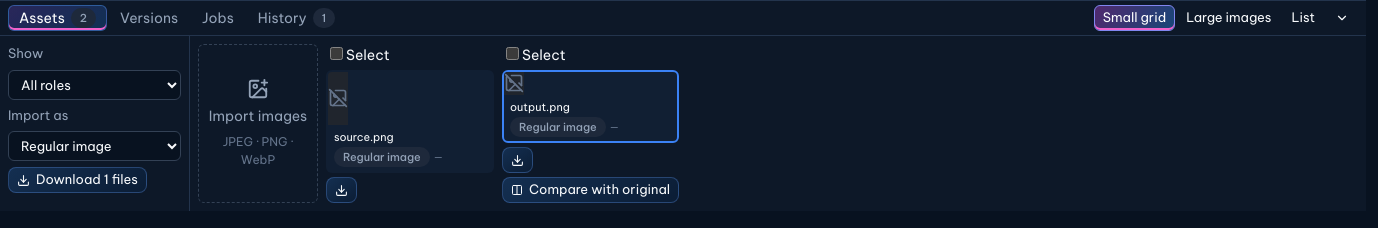
asset tray view preference › keeps batch selection and enhance comparison available in list rows
Click the button "List" at (1303, 18), box [1282,5,1324,31]
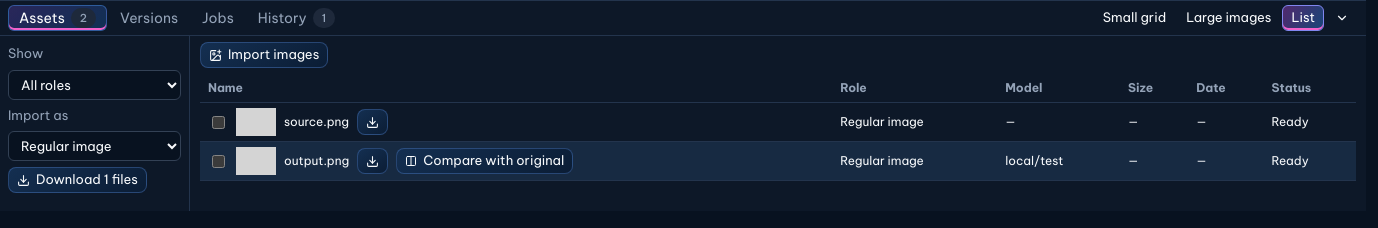
Click the checkbox named "Select" next to "source.png" at (218, 122), box [212,116,225,128]
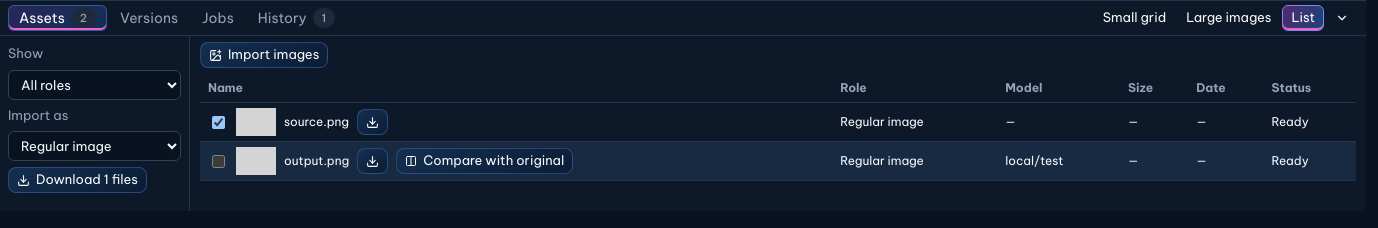
Result: the checkbox named "Select" next to "source.png" is checked at [212,116,225,128]
Click the checkbox named "Select" next to "output.png" at (218, 161), box [212,154,225,168]
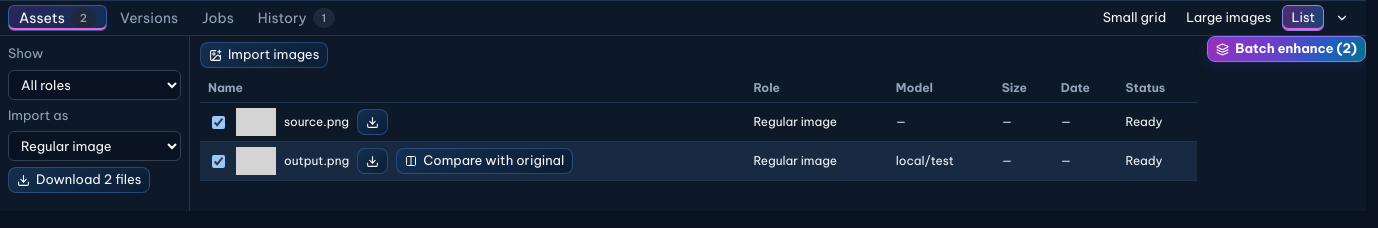
Expected: the button "Compare with original" is shown, [396,148,573,174]
Result: the button "Batch enhance (2)" is shown at [1207,36,1366,62]
